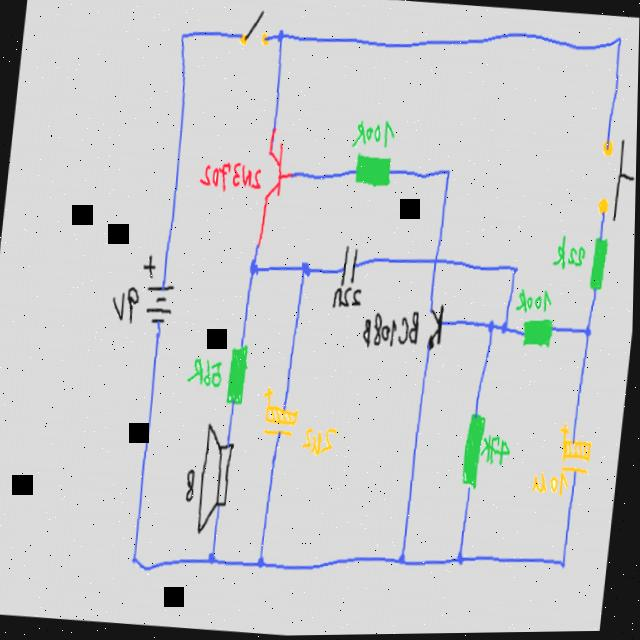capacitor: (260, 381, 306, 442), (557, 421, 600, 481), (340, 242, 363, 290)
crossover: (431, 252, 444, 271)
junction: (249, 256, 263, 279), (301, 257, 315, 280), (177, 25, 192, 46), (275, 25, 289, 46), (559, 554, 573, 575), (132, 548, 145, 569), (208, 548, 222, 567), (487, 315, 499, 336), (258, 553, 271, 571), (614, 31, 626, 50), (500, 320, 512, 338), (399, 550, 411, 568), (458, 550, 469, 568), (585, 324, 595, 340), (445, 164, 455, 180), (511, 262, 521, 278)
resistor: (457, 408, 490, 496), (350, 147, 397, 197), (225, 337, 256, 408), (586, 234, 613, 299), (522, 314, 557, 351)
source: (136, 249, 184, 337)
switch: (594, 131, 638, 226), (240, 4, 274, 48)
text: (360, 306, 424, 355), (198, 156, 265, 194), (351, 113, 399, 152), (302, 422, 342, 460), (188, 353, 228, 390), (554, 233, 589, 273), (112, 282, 144, 325), (516, 285, 557, 317), (482, 432, 516, 468), (534, 469, 574, 499), (332, 281, 367, 313), (185, 467, 200, 502)
transistor: (261, 136, 294, 213), (423, 299, 454, 362)
